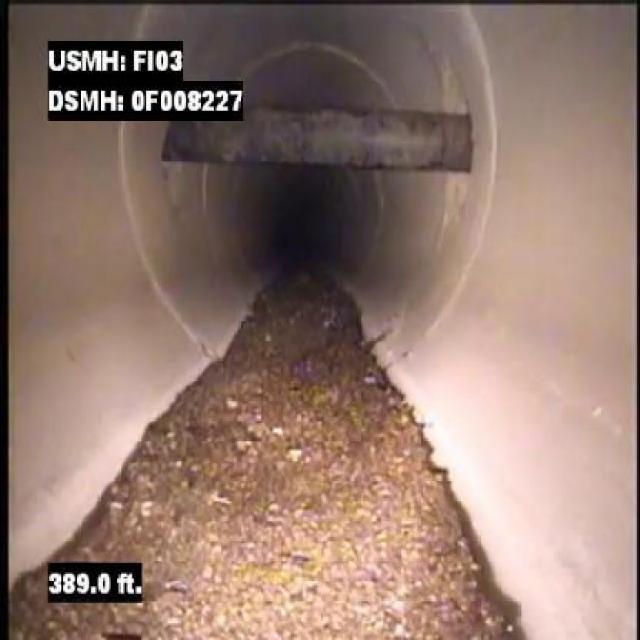Debris: (65, 368, 488, 562)
